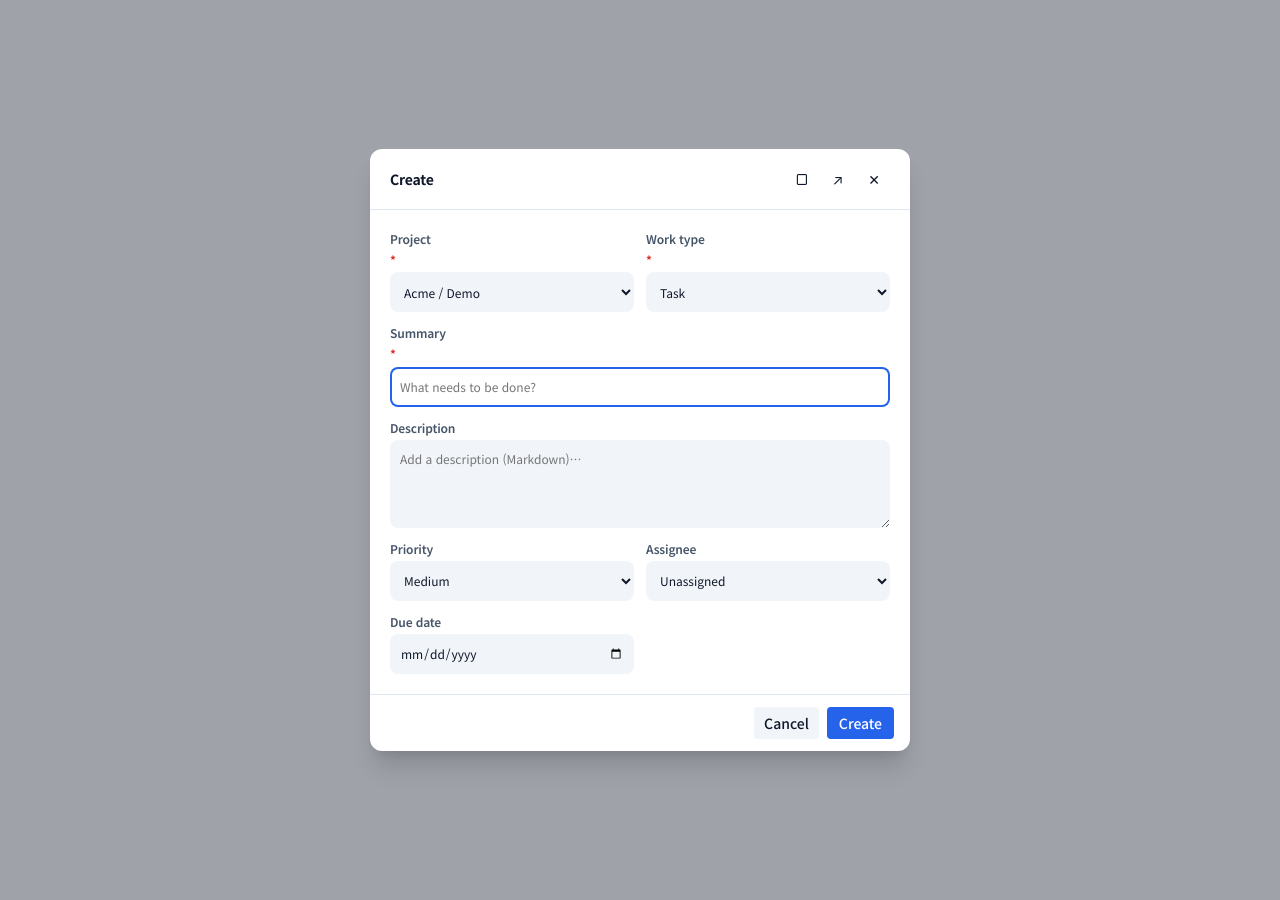
Test: CreateIssueDialog compact Description › keeps a single Description field when expanded
This screenshot has width=1280, height=900.
Click the button titled "Full form" at (838, 179), box left=822, top=163, right=854, bottom=195
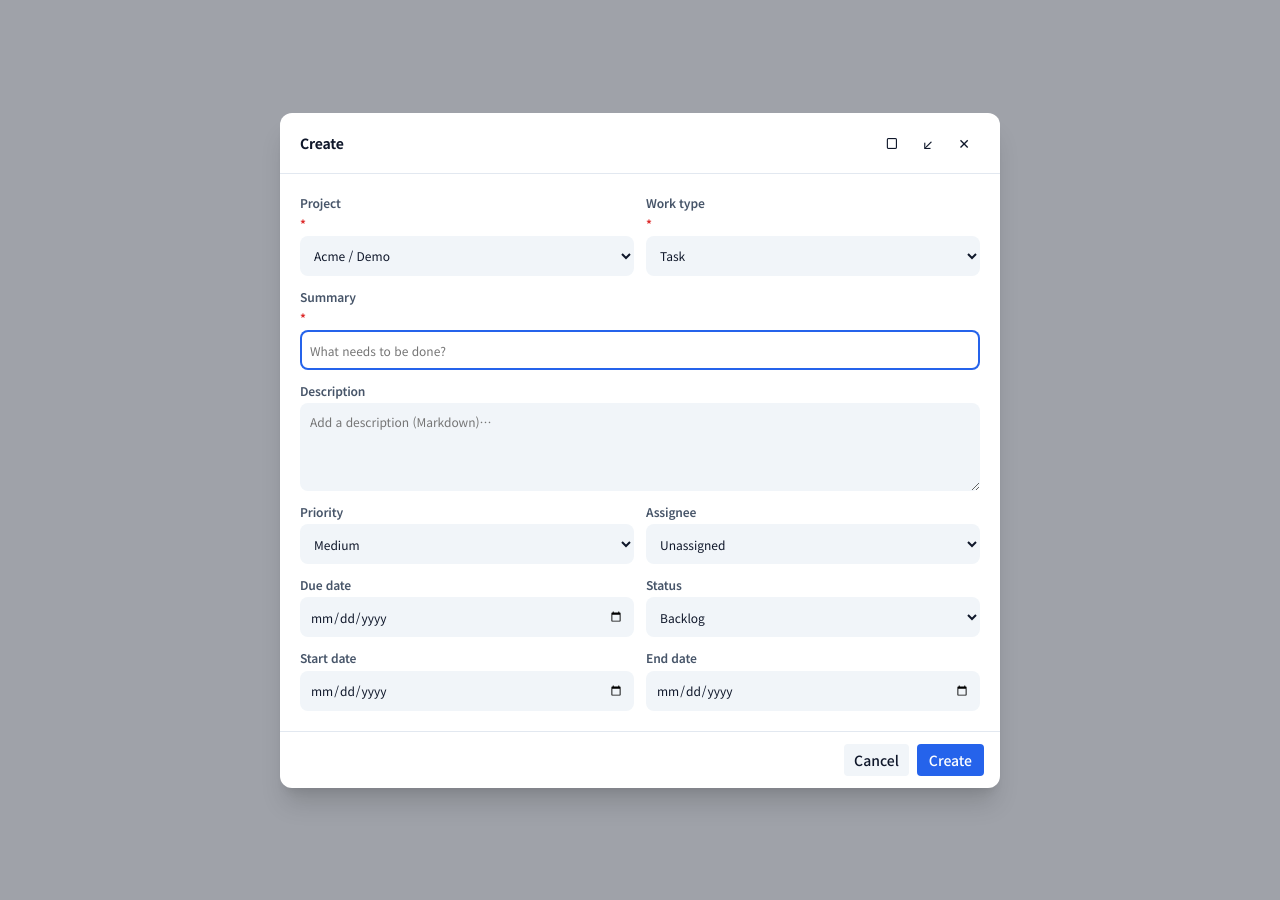
Expected: the number of text boxes labelled "Description" is 1, left=300, top=403, right=980, bottom=491
Result: the dropdown labelled "Status" is shown at left=646, top=597, right=980, bottom=637
